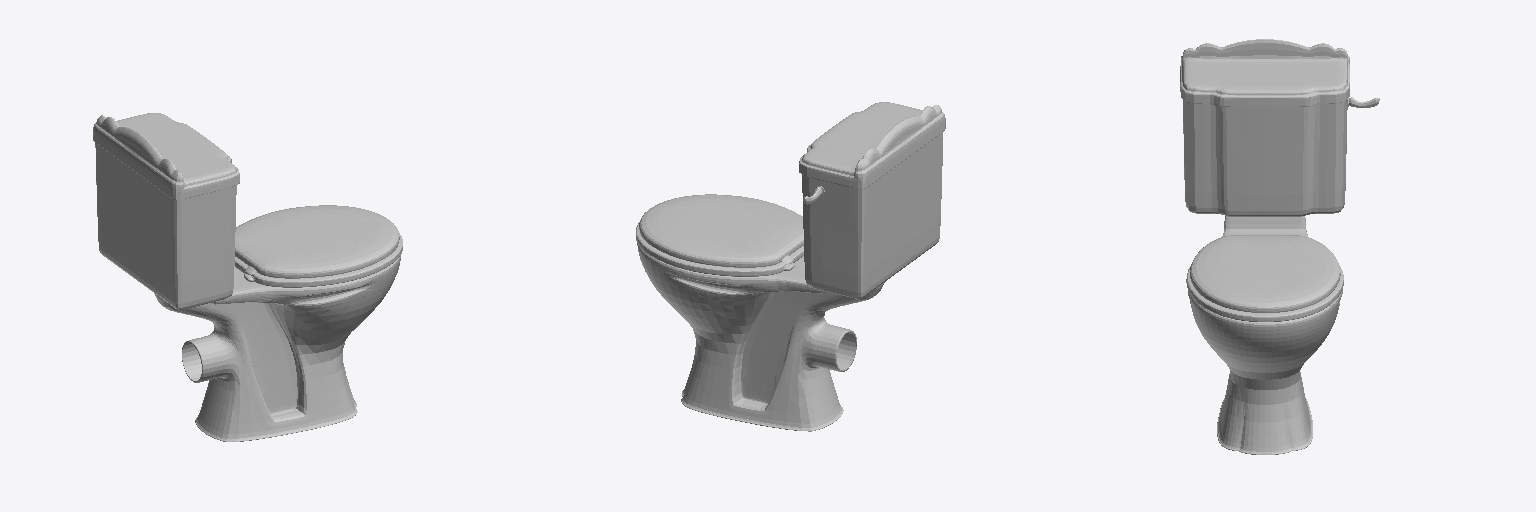
File: vaso_sanitario.obj
3 views of the same model, side by side, from view 1: azimuth 30°, elevation 25°; view 2: azimuth 150°, elevation 25°; view 3: azimuth 270°, elevation 25° (orthographic).
Parts seen in each view (by area): view 1: vaso_sanitario_WC; view 2: vaso_sanitario_WC; view 3: vaso_sanitario_WC.
Part boxes in pixels (left/top/right/bottom): vaso_sanitario_WC: left=93, top=113, right=402, bottom=441; vaso_sanitario_WC: left=636, top=102, right=945, bottom=431; vaso_sanitario_WC: left=1180, top=39, right=1379, bottom=454.
Size of the model in its own units: 1.42 by 1.63 by 0.9408.